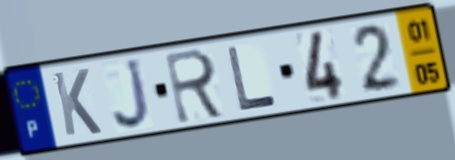2: (351, 21, 405, 97)
4: (302, 28, 347, 102)
J: (111, 55, 155, 132)
K: (49, 66, 105, 139)
L: (224, 44, 280, 113)
R: (162, 46, 229, 127)
